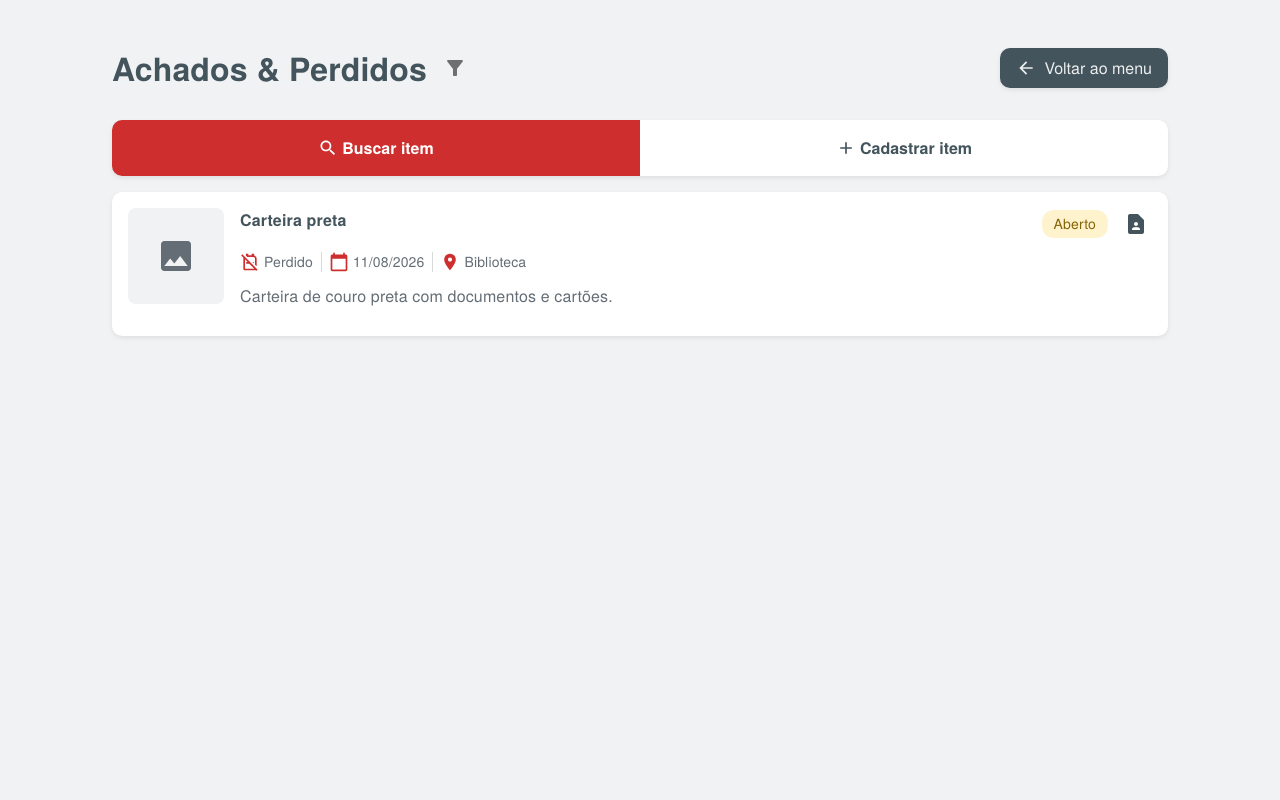
Test case: LostAndFound › should ask the api without a status when every status is wanted
Expected: the text "Carteira preta" is shown, [240,208,346,232]
Click the button named "Filtros".
click(455, 68)  # box [435,48,475,88]
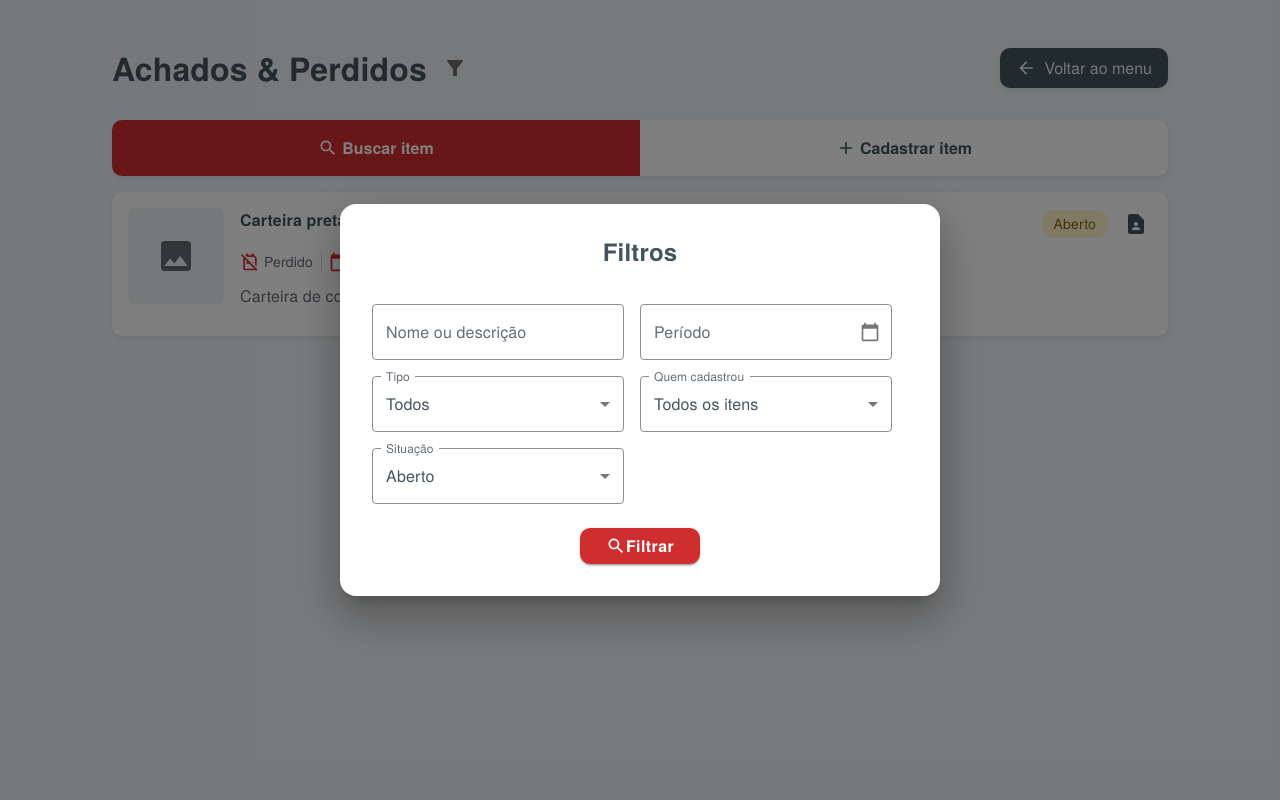
Result: the dialog is shown at [340,204,940,596]
Click the dropdown named "Situação".
click(410, 476)  # box [386,464,434,487]
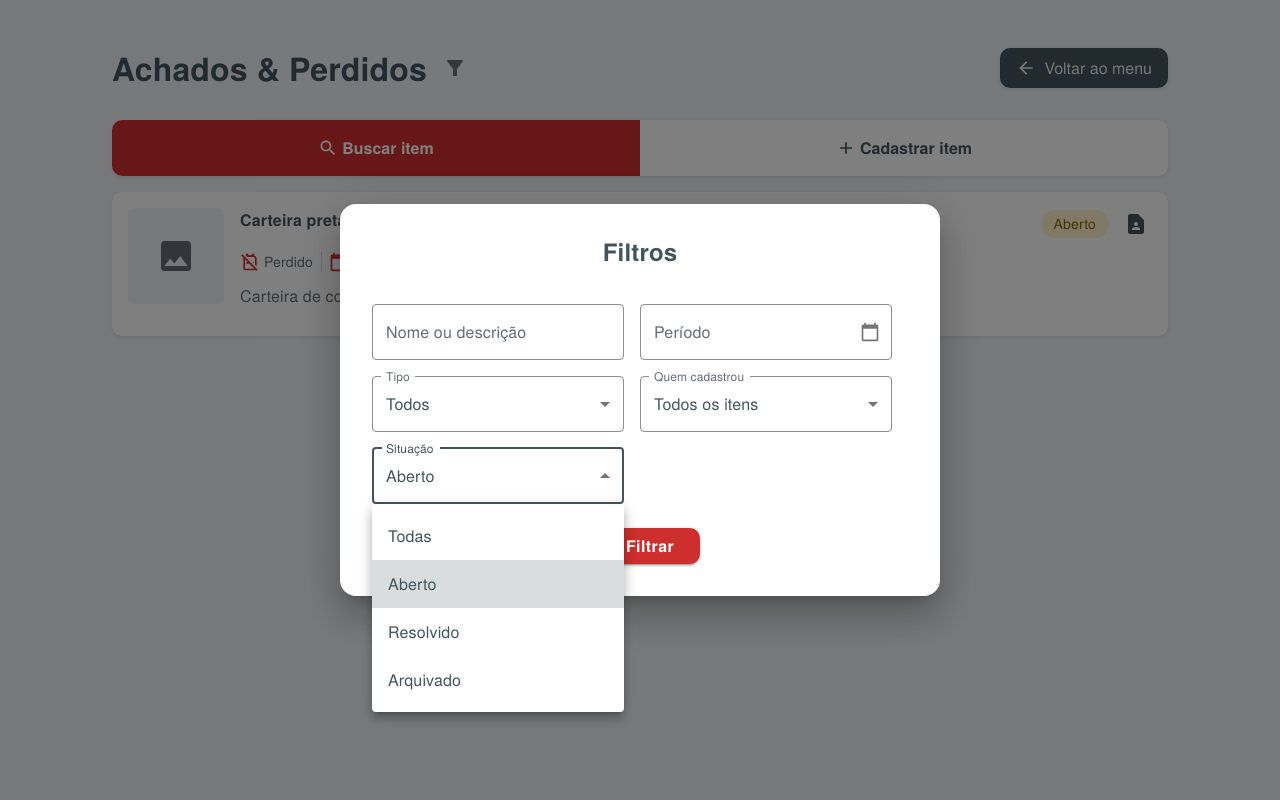
Click the option "Todas".
click(410, 536)  # box [388,524,432,547]
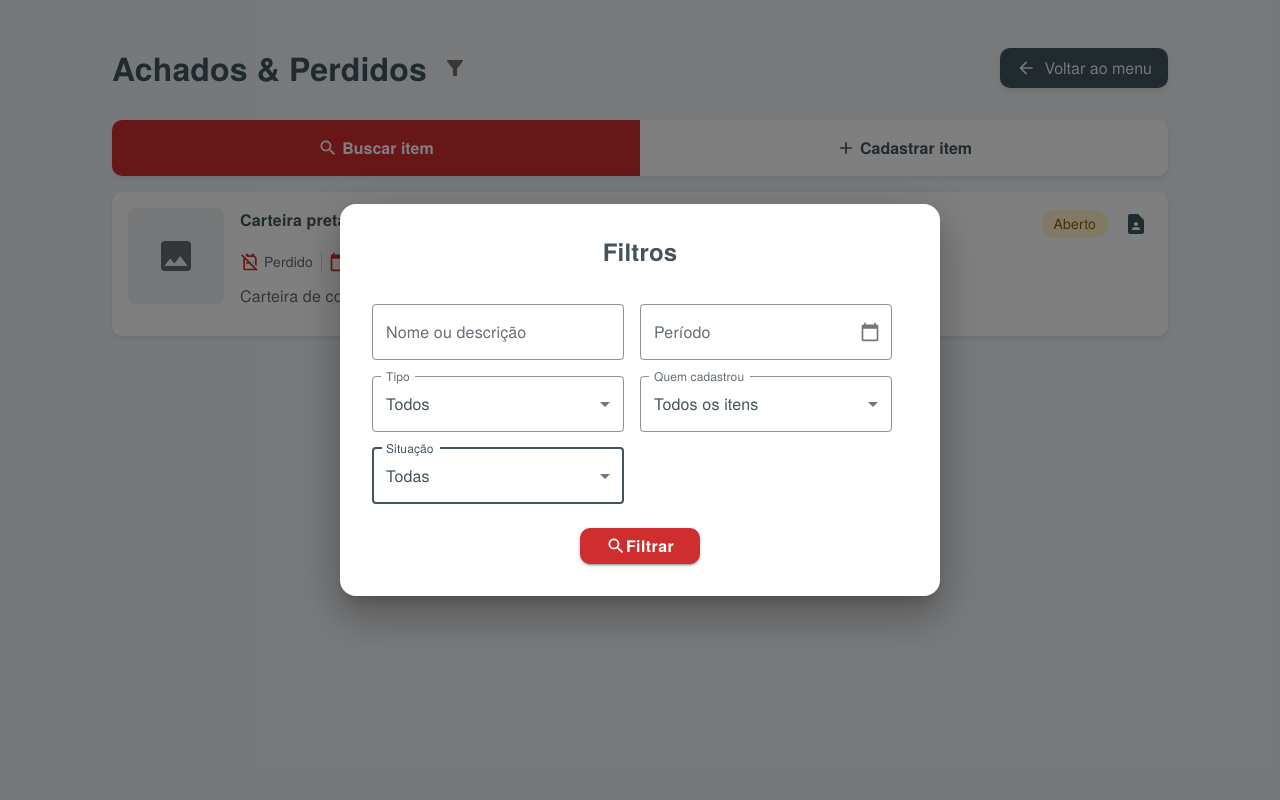
Click the button "Filtrar".
click(640, 546)  # box [580,528,700,564]
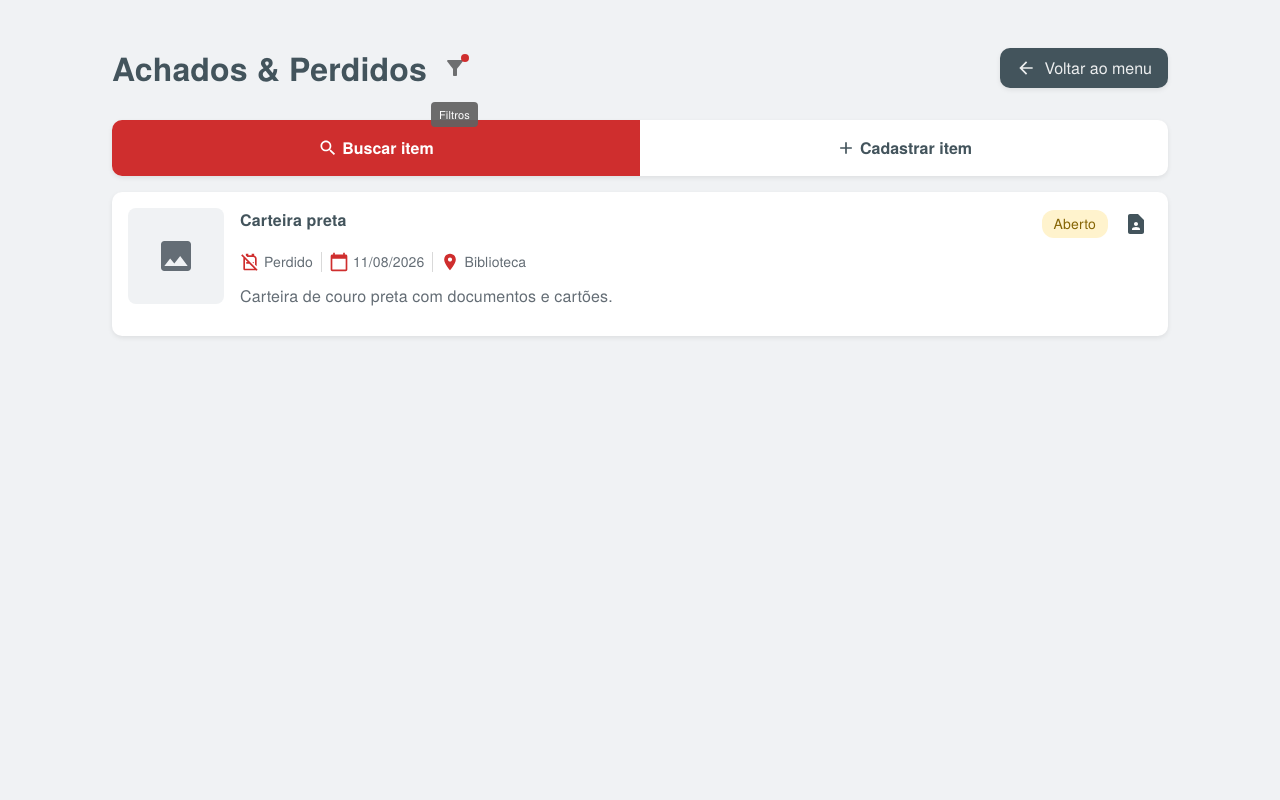
Expected: the text "Carteira preta" is shown, [240,208,346,232]
Result: the dialog is gone
